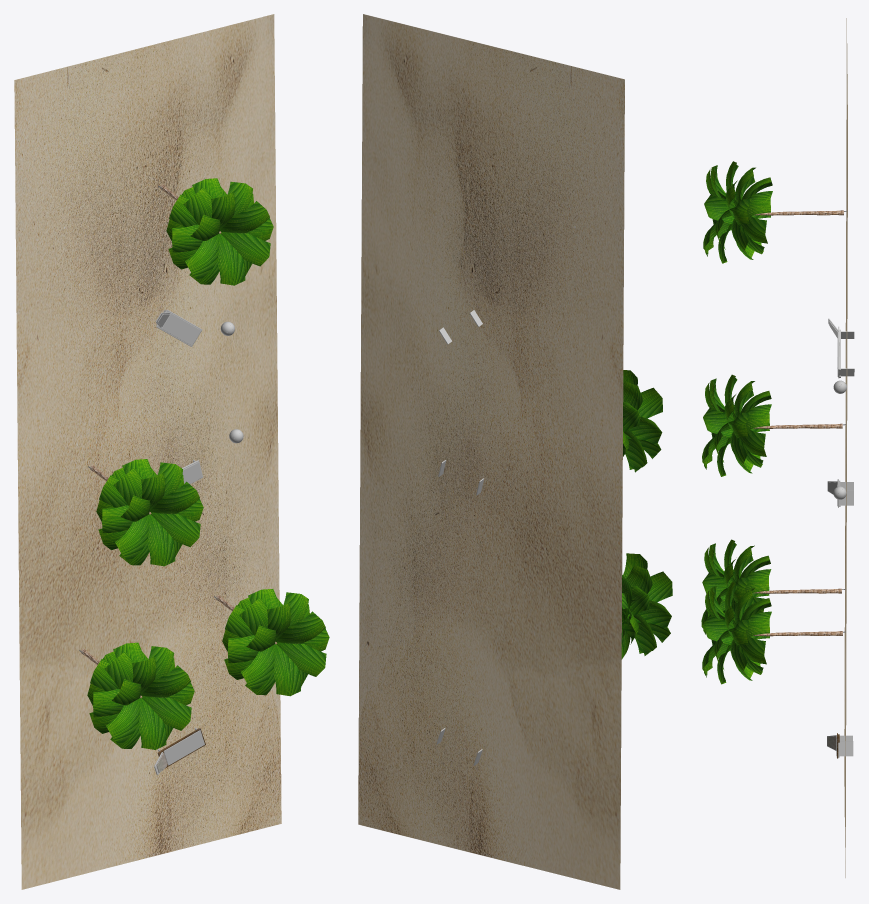
File: Berma_2.obj
3 renders of one model, left to right at view 1: azimuth 30°, elevation 25°; view 2: azimuth 150°, elevation 25°; view 3: azimuth 270°, elevation 25°, orthographic. The views are drawn at different scales.
Visible parts, largest first — view 1: Berma_1, palm_folhas.002, palm_folhas.001, palm_folhas.003, palm_folhas, cama_almofada.002, cama_almofada; view 2: Berma_1, palm_folhas.003, palm_folhas; view 3: palm_folhas.001, palm_folhas, palm_folhas.002, palm_folhas.003, Berma_1, palm_trunk.003, palm_trunk, palm_trunk.002, palm_trunk.001, cama_base.002, cama_base.
Boxes of the visible parts, <box> form: Berma_1: <box>14,14,281,889</box>; palm_folhas.002: <box>158,178,273,285</box>; palm_folhas.001: <box>214,589,329,696</box>; palm_folhas.003: <box>79,642,194,749</box>; palm_folhas: <box>88,459,203,566</box>; cama_almofada.002: <box>156,730,204,772</box>; cama_almofada: <box>157,313,201,345</box>; Berma_1: <box>358,14,624,889</box>; palm_folhas.003: <box>621,553,672,659</box>; palm_folhas: <box>623,370,662,472</box>; palm_folhas.001: <box>702,582,845,684</box>; palm_folhas: <box>702,374,845,476</box>; palm_folhas.002: <box>703,161,846,263</box>; palm_folhas.003: <box>701,539,845,634</box>; Berma_1: <box>844,18,847,877</box>; palm_trunk.003: <box>753,588,841,593</box>; palm_trunk: <box>753,423,842,428</box>; palm_trunk.002: <box>754,210,843,215</box>; palm_trunk.001: <box>753,631,842,636</box>; cama_base.002: <box>838,734,853,757</box>; cama_base: <box>839,329,854,377</box>.
Size of the model in its own units: 20.66 by 60.15 by 11.
